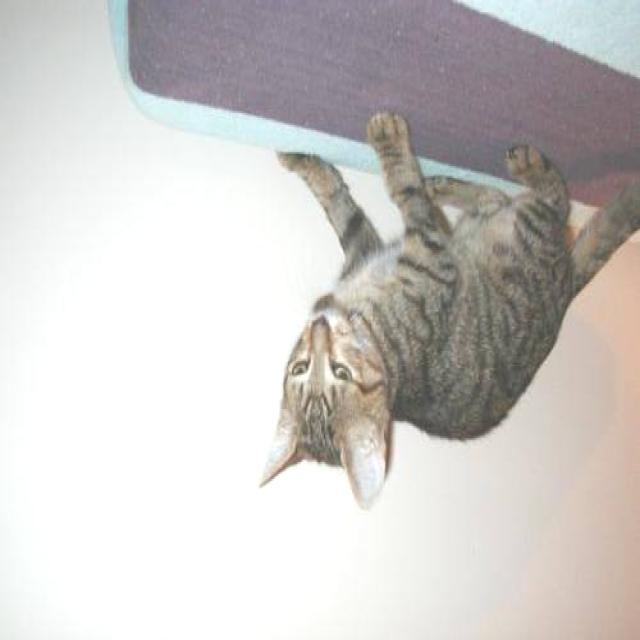Kucing: (228, 60, 640, 520)
